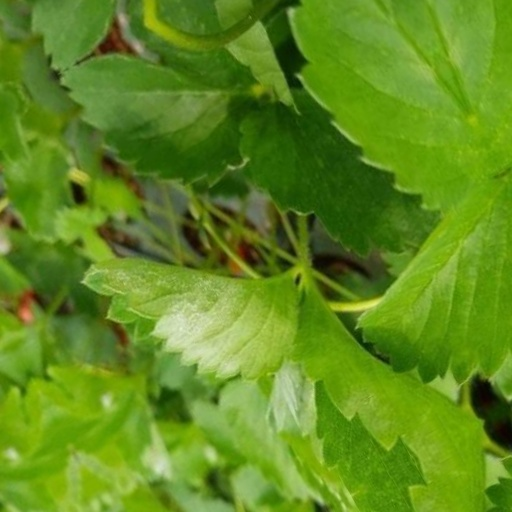Powdery Mildew Leaf: (225, 144, 423, 329), (410, 102, 511, 264)
